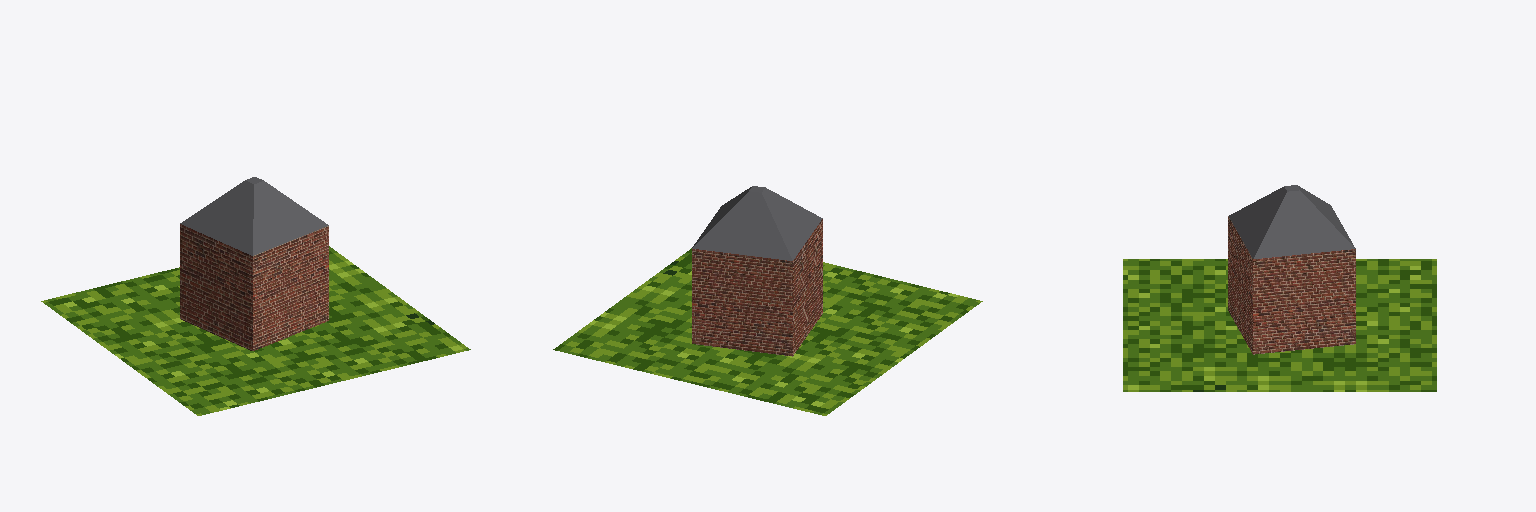
3 renders of one model, left to right at view 1: azimuth 30°, elevation 25°; view 2: azimuth 150°, elevation 25°; view 3: azimuth 270°, elevation 25°, orthographic.
Parts seen in each view (by area): view 1: Cube; view 2: Cube; view 3: Cube.
Part boxes in pixels (x1,y1,x2,y2): Cube: (41, 177, 470, 415); Cube: (553, 186, 982, 415); Cube: (1123, 185, 1436, 391).
Size of the model in its own units: 5.96 by 2.92 by 5.96.
5 materials, 2 textured.